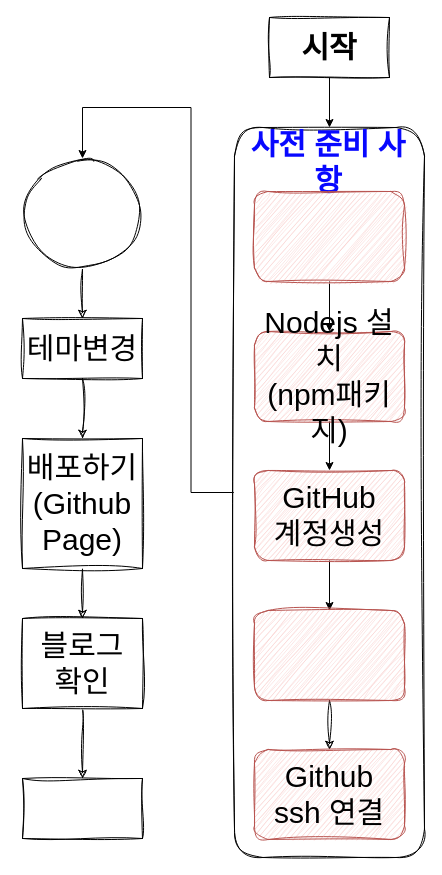
The diagram is 442 pixels wide and 875 high, and some of its shapes have lost their labels. Each missing label, with the centre of its shape:
"Git 설치 (소스형상관리)" goes at (329,236).
"Github Page 생성" goes at (329,655).
"Hexo 생성" goes at (82,213).
"종료" goes at (82,808).
